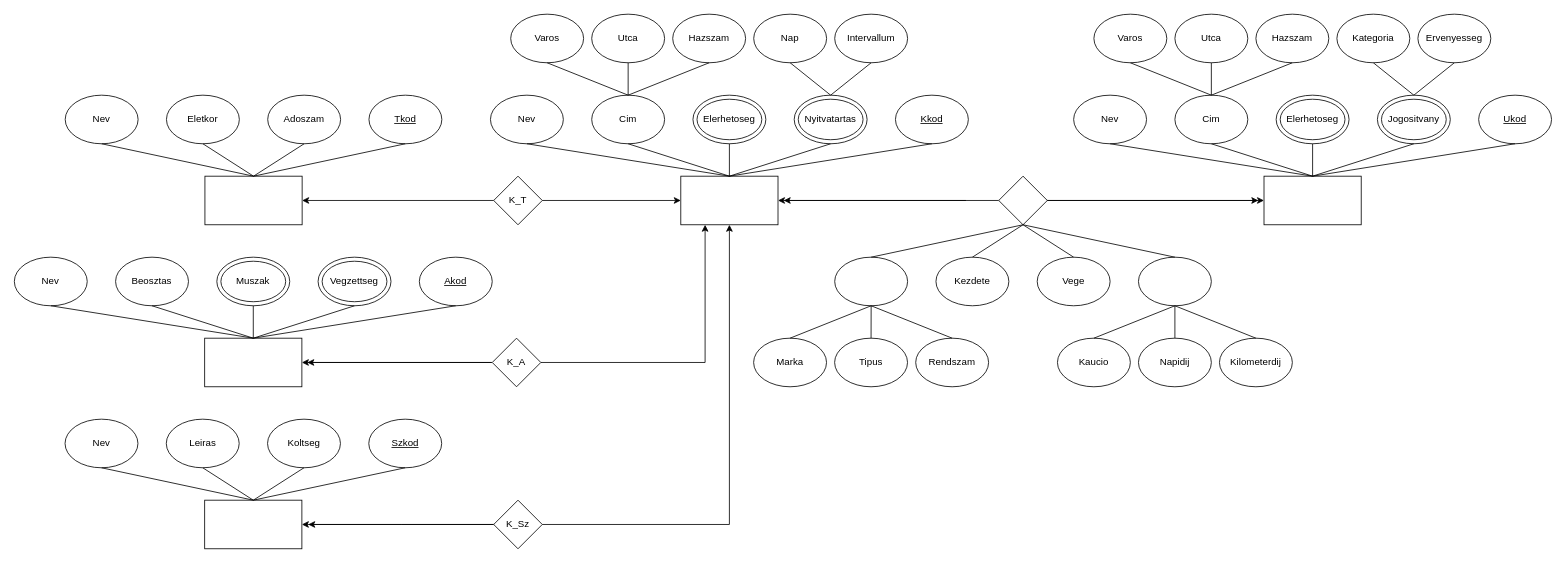
Image size: 1566x563. Some labels were removed from this diagram. Here are the shapes that lost their labels. From the top down, the box of each, then its label:
(204, 175, 302, 225): Tulajdonos
(680, 175, 778, 225): Kolcsonzo
(998, 175, 1047, 225): Berles
(1263, 175, 1361, 225): Ugyfel
(834, 256, 908, 306): Jarmu
(1138, 256, 1211, 306): Dij
(204, 337, 302, 387): Alkalmazott
(204, 499, 302, 549): Szolgaltatas
